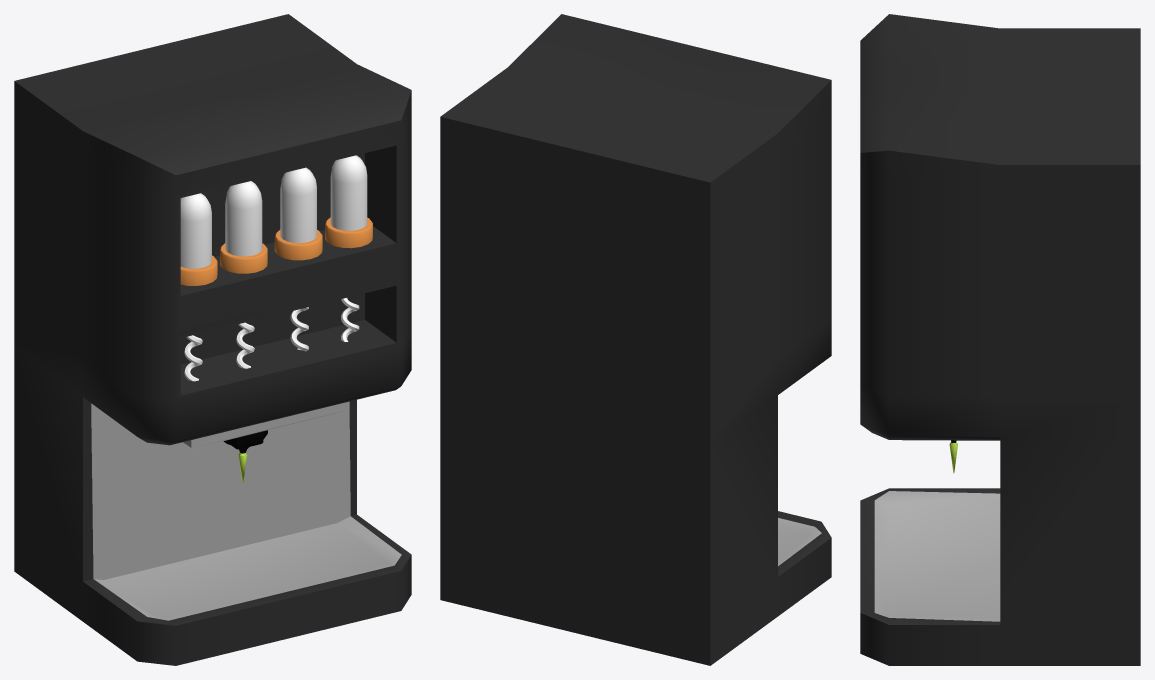
Rendered from EnvironScene_CureDispenserMachiene_04.FBX.
The picture shows the model from 3 angles, left to right: view 1: azimuth 30°, elevation 25°; view 2: azimuth 150°, elevation 25°; view 3: azimuth 270°, elevation 25°; orthographic projection. The views are drawn at different scales.
Visible parts, largest first — view 1: CureMachiene_01; view 2: CureMachiene_01; view 3: CureMachiene_01.
Part boxes in pixels (box(x1,y1,x2,y2)): CureMachiene_01: box(14, 14, 411, 665); CureMachiene_01: box(440, 14, 831, 665); CureMachiene_01: box(860, 14, 1140, 665).
Size of the model in its own units: 300 by 528 by 260.
